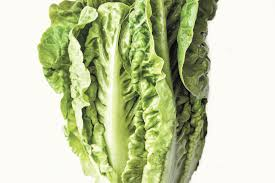lettuce: (51, 7, 205, 180)
